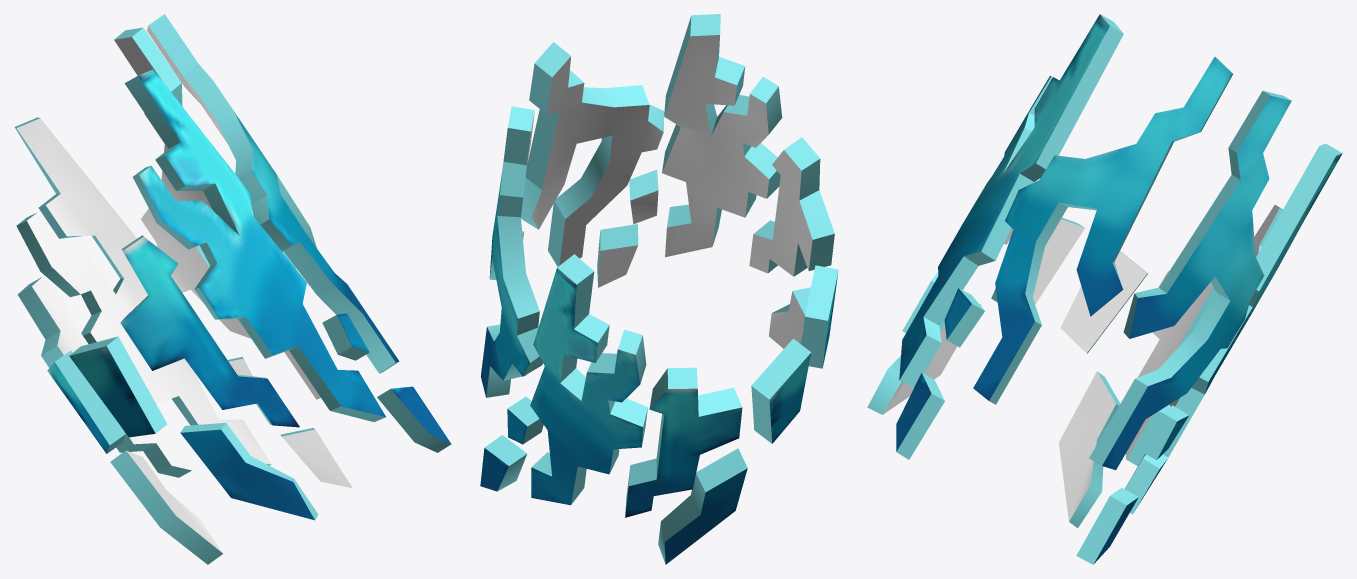
File: 1_Fashi_w_level_81.FBX
3 renders of one model, left to right at view 1: azimuth 30°, elevation 25°; view 2: azimuth 150°, elevation 25°; view 3: azimuth 270°, elevation 25°, orthographic. The views are drawn at different scales.
Parts seen in each view (by area): view 1: 1_Fashi_w_level_81; view 2: 1_Fashi_w_level_81; view 3: 1_Fashi_w_level_81.
Boxes of the visible parts, x1,y1,x2,y2 form: 1_Fashi_w_level_81: (14,14,451,564); 1_Fashi_w_level_81: (480,14,838,564); 1_Fashi_w_level_81: (867,14,1342,564).
Bounding box in the file's own units: 34.55 × 56.33 × 49.92.
1 material, 1 textured.
